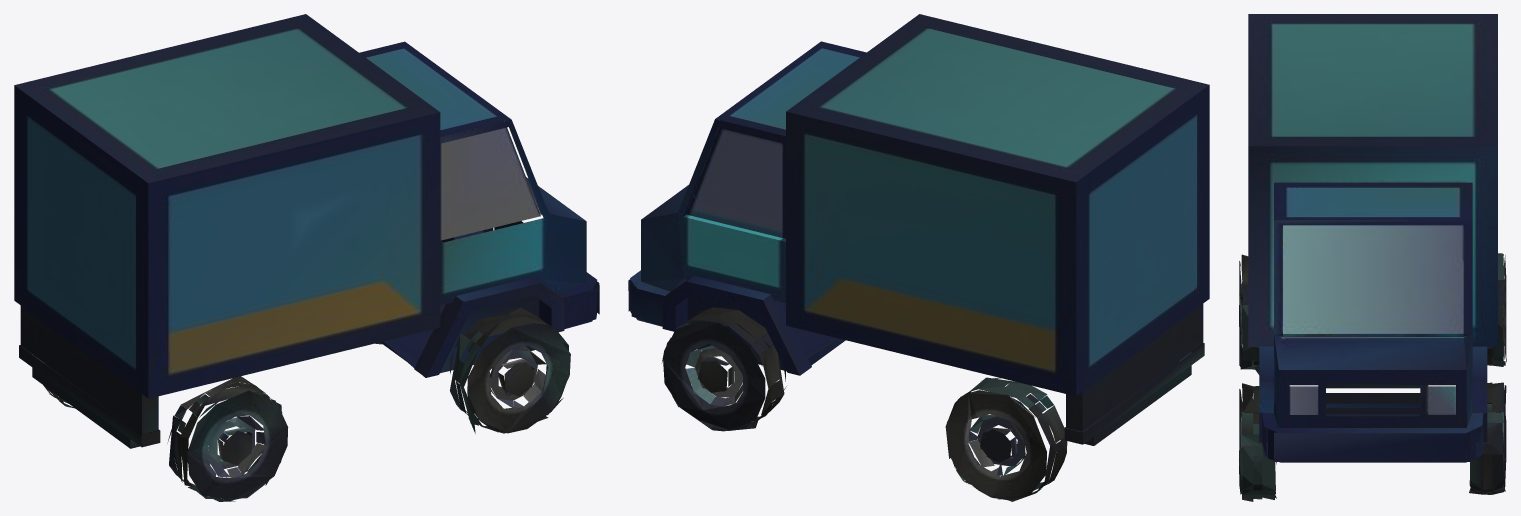
Rendered from delivery-truck.glb.
3 renders of one model, left to right at view 1: azimuth 30°, elevation 25°; view 2: azimuth 150°, elevation 25°; view 3: azimuth 270°, elevation 25°, orthographic. The views are drawn at different scales.
Parts seen in each view (by area): view 1: tripo_node_f057d457-520b-42d7-bea0-31112bb3b248; view 2: tripo_node_f057d457-520b-42d7-bea0-31112bb3b248; view 3: tripo_node_f057d457-520b-42d7-bea0-31112bb3b248.
Boxes of the visible parts, box(x1,y1,x2,y2) form: tripo_node_f057d457-520b-42d7-bea0-31112bb3b248: box(14, 14, 599, 501); tripo_node_f057d457-520b-42d7-bea0-31112bb3b248: box(628, 14, 1209, 501); tripo_node_f057d457-520b-42d7-bea0-31112bb3b248: box(1239, 14, 1506, 501).
Size of the model in its own units: 0.9979 by 0.689 by 0.5333.
1 material, 1 textured.
